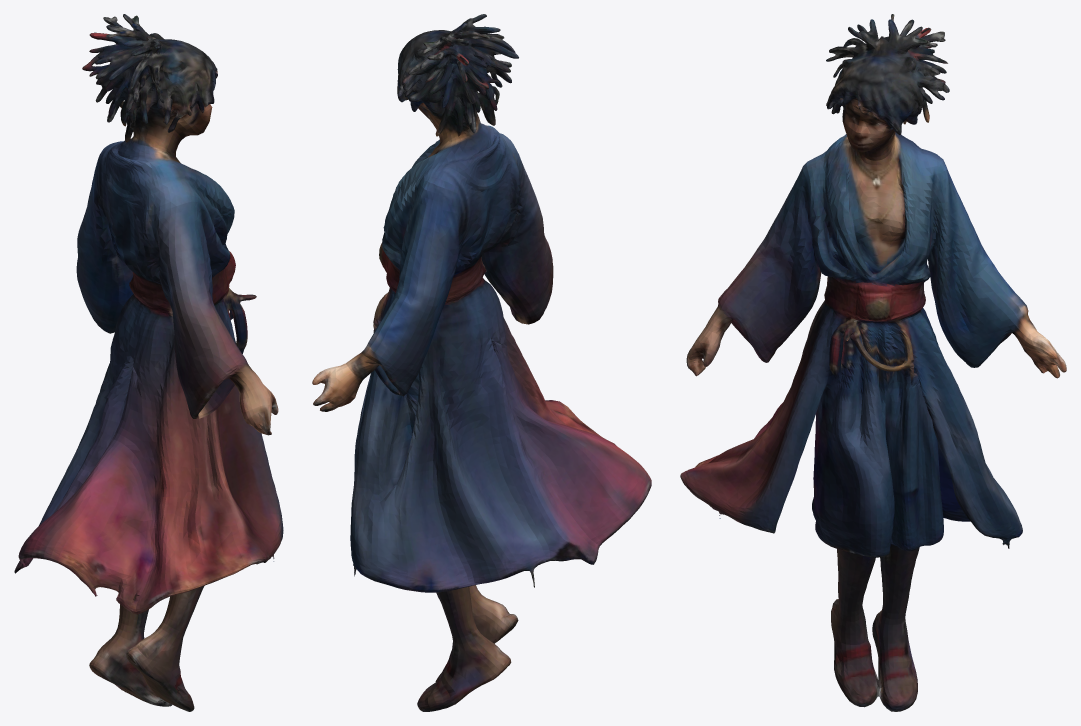
The model's file is modelo6.glb.
The picture shows the model from 3 angles, left to right: view 1: azimuth 30°, elevation 25°; view 2: azimuth 150°, elevation 25°; view 3: azimuth 270°, elevation 25°; orthographic projection. The views are drawn at different scales.
Visible parts, largest first — view 1: tripo_node_1f220ba0-acbb-4582-a618-f42eb8ddb8ca; view 2: tripo_node_1f220ba0-acbb-4582-a618-f42eb8ddb8ca; view 3: tripo_node_1f220ba0-acbb-4582-a618-f42eb8ddb8ca.
Part boxes in pixels (x1,y1,x2,y2): tripo_node_1f220ba0-acbb-4582-a618-f42eb8ddb8ca: (14, 14, 283, 711); tripo_node_1f220ba0-acbb-4582-a618-f42eb8ddb8ca: (312, 14, 651, 711); tripo_node_1f220ba0-acbb-4582-a618-f42eb8ddb8ca: (680, 14, 1066, 711).
Size of the model in its own units: 0.3867 by 0.9946 by 0.5174.
1 material, 1 textured.
